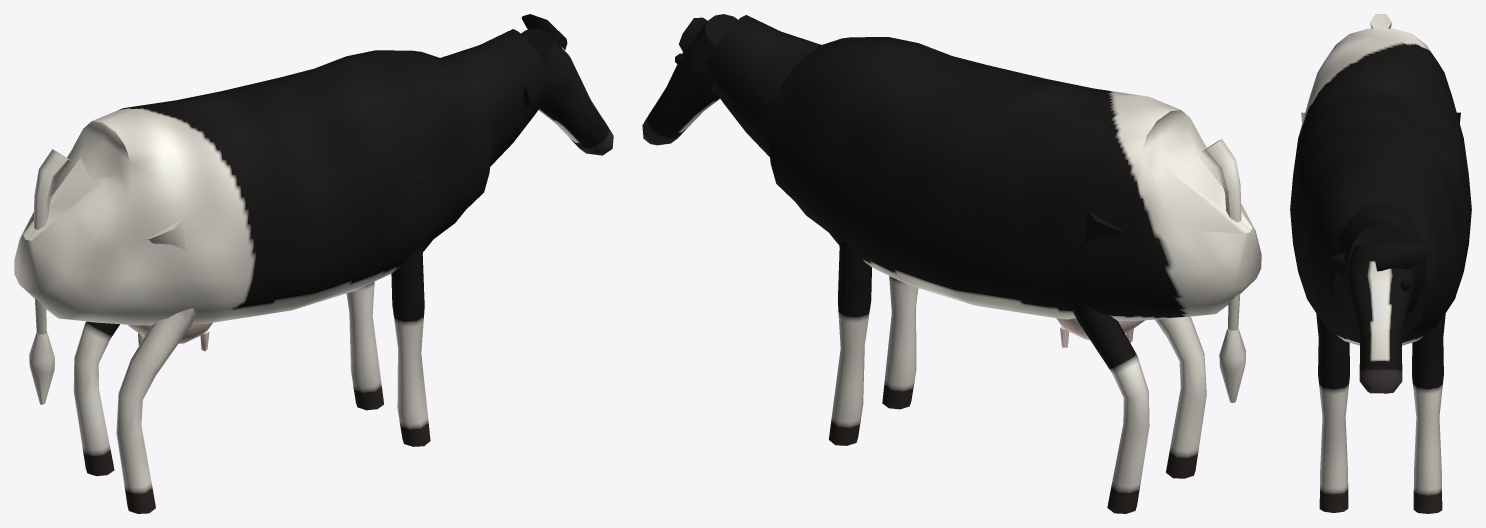
File: tpl_life_herd_1970_cattle_fh_stand.glb
3 views of the same model, side by side, from view 1: azimuth 30°, elevation 25°; view 2: azimuth 150°, elevation 25°; view 3: azimuth 270°, elevation 25° (orthographic). The views are drawn at different scales.
Parts seen in each view (by area): view 1: tpl_life_herd_1970_cattle_fh_stand; view 2: tpl_life_herd_1970_cattle_fh_stand; view 3: tpl_life_herd_1970_cattle_fh_stand.
Part boxes in pixels (x1,y1,x2,y2): tpl_life_herd_1970_cattle_fh_stand: [14, 14, 613, 513]; tpl_life_herd_1970_cattle_fh_stand: [642, 14, 1261, 513]; tpl_life_herd_1970_cattle_fh_stand: [1290, 14, 1471, 513].
Bounding box in the file's own units: 2.34 × 1.41 × 0.6588.
2 materials, 1 textured.
